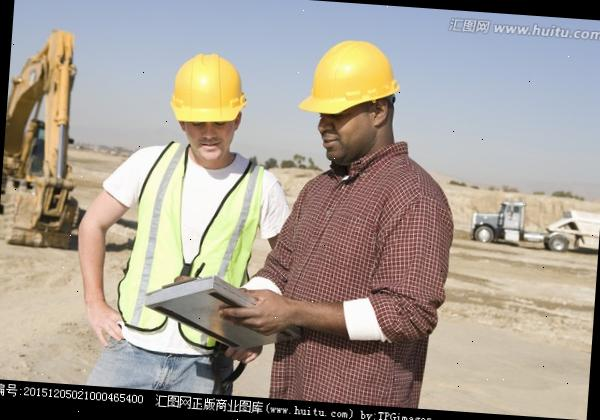helmet: (292, 35, 404, 124), (164, 50, 254, 131)
no_wear: (273, 162, 430, 405)
wear: (123, 152, 264, 356)
